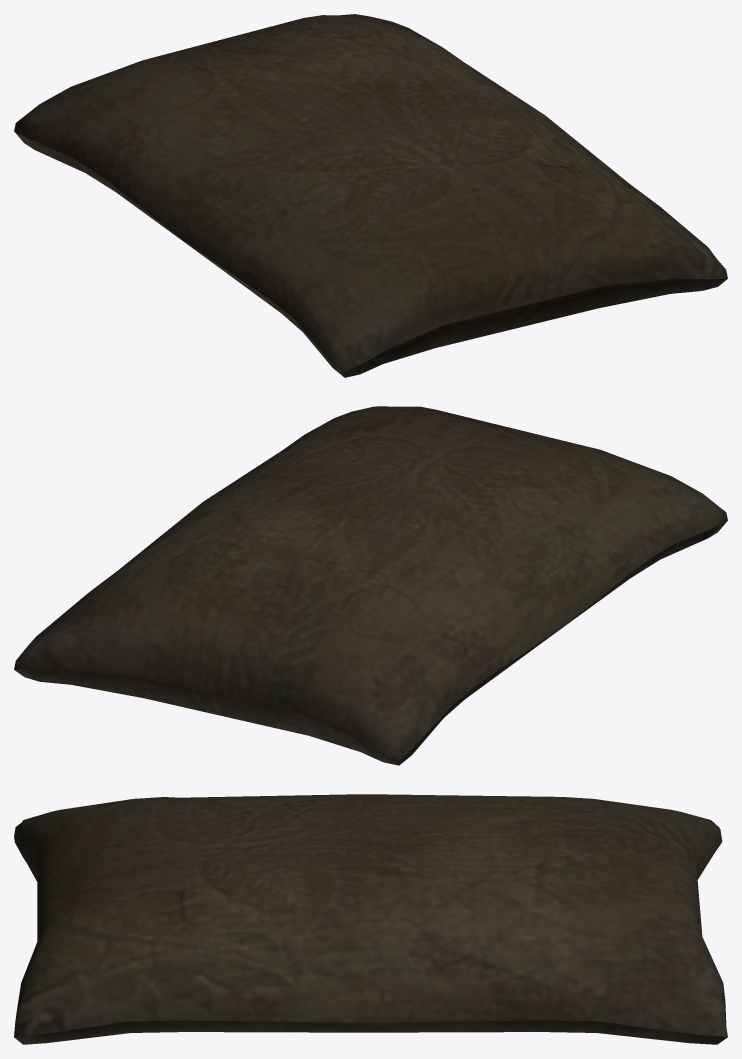
File: pillow_mp_1.obj
The picture shows the model from 3 angles, top to bottom: view 1: azimuth 30°, elevation 25°; view 2: azimuth 150°, elevation 25°; view 3: azimuth 270°, elevation 25°; orthographic projection. The views are drawn at different scales.
Parts seen in each view (by area): view 1: pillow_mp_1; view 2: pillow_mp_1; view 3: pillow_mp_1.
Part boxes in pixels (box(x1,y1,x2,y2)): pillow_mp_1: box(14, 14, 727, 377); pillow_mp_1: box(14, 406, 727, 765); pillow_mp_1: box(14, 794, 727, 1044).
Bounding box in the file's own units: 0.5481 × 0.1624 × 0.814.
